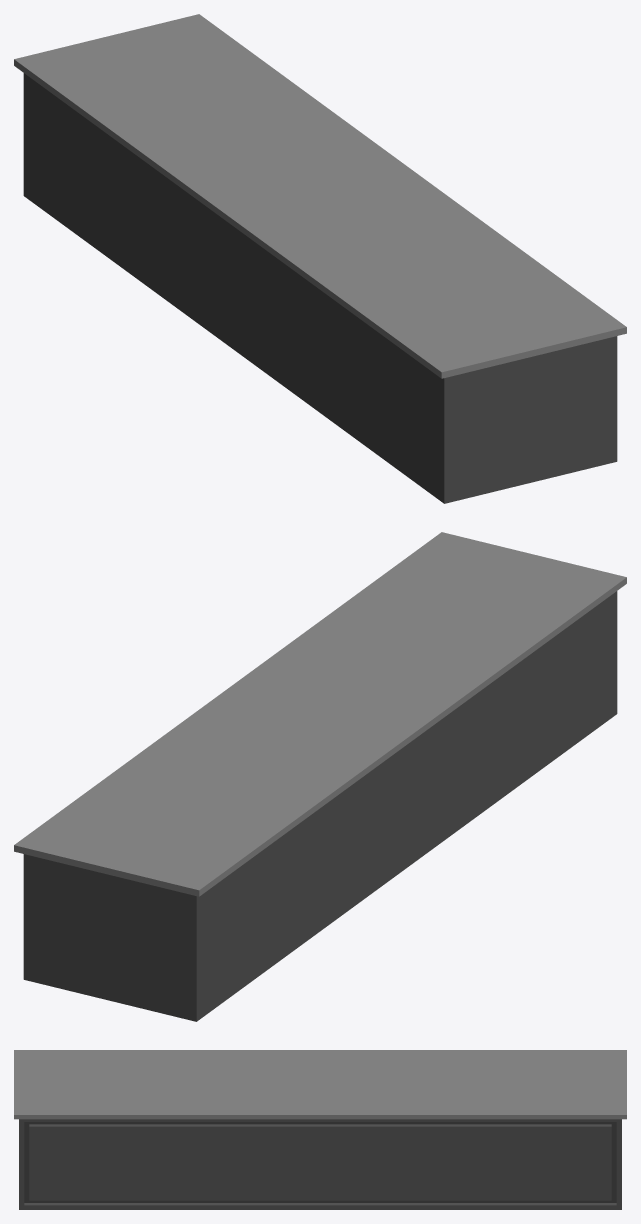
Rendered from FrontDesk.obj.
The picture shows the model from 3 angles, top to bottom: view 1: azimuth 30°, elevation 25°; view 2: azimuth 150°, elevation 25°; view 3: azimuth 270°, elevation 25°; orthographic projection. The views are drawn at different scales.
Bounding box in the file's own units: 3 × 2.1 × 12.
Materials: 1 (1 with a texture image).
